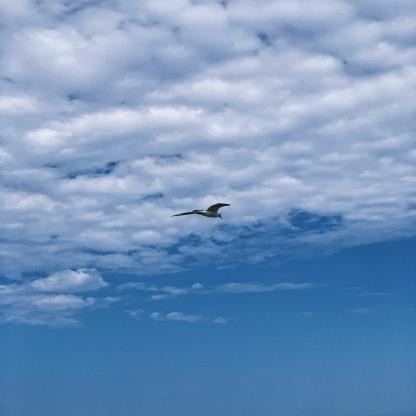bird: (172, 202, 230, 220)
